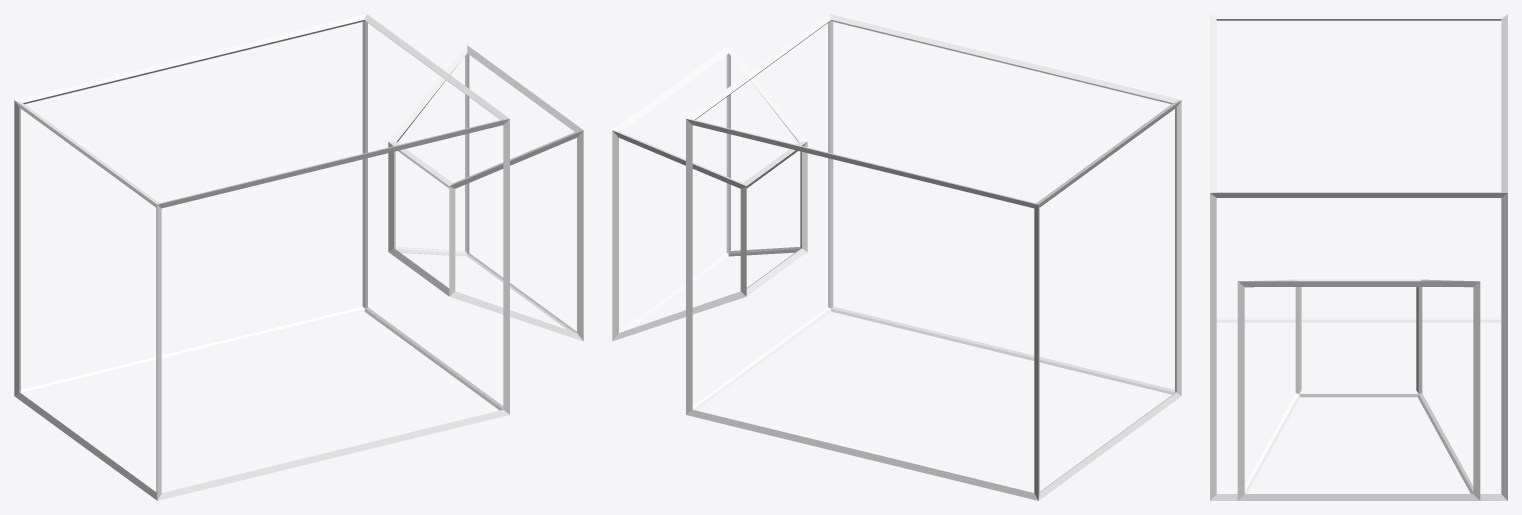
Rendered from Camera.glb.
3 renders of one model, left to right at view 1: azimuth 30°, elevation 25°; view 2: azimuth 150°, elevation 25°; view 3: azimuth 270°, elevation 25°, orthographic. The views are drawn at different scales.
Visible parts, largest first — view 1: Cube; view 2: Cube; view 3: Cube.
Part boxes in pixels (x1,y1,x2,y2): Cube: (14, 14, 583, 500); Cube: (612, 14, 1181, 500); Cube: (1210, 14, 1507, 500).
Size of the model in its own units: 1.26 by 0.8115 by 0.7115.
Materials: 1 (1 with a texture image).
